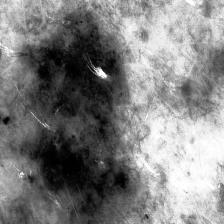Benign Marking or Mole: (1, 12, 160, 224)
